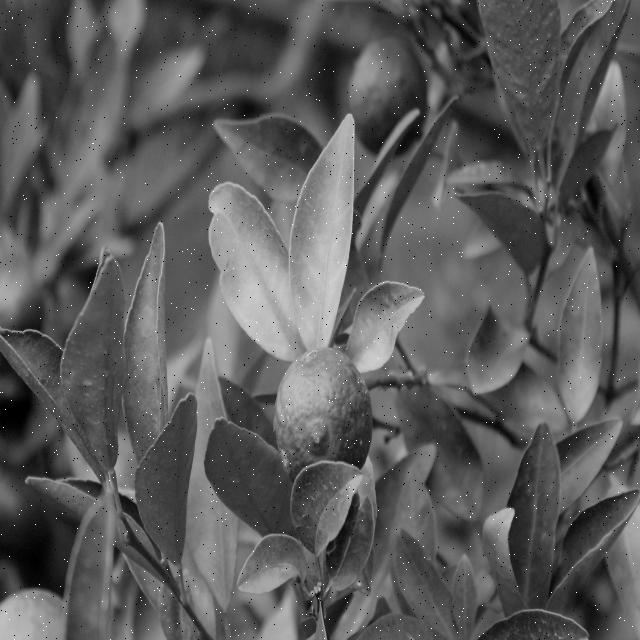greening: (291, 134, 363, 346), (212, 193, 290, 353), (561, 245, 603, 417)
